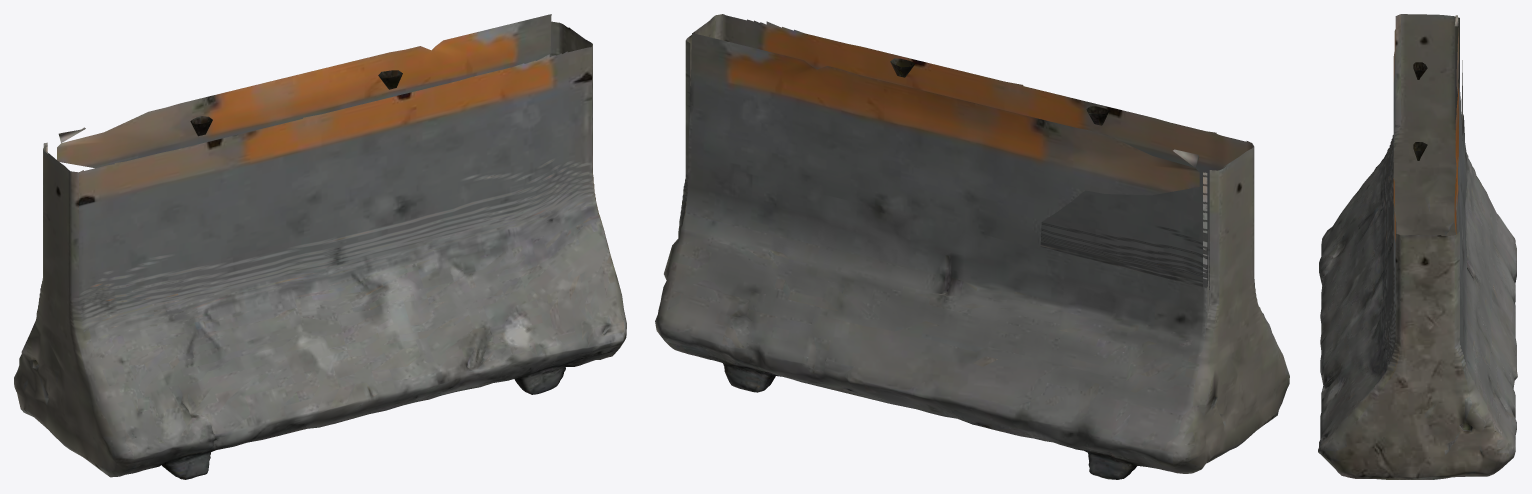
The model's file is barrier_concrete.glb.
3 views of the same model, side by side, from view 1: azimuth 30°, elevation 25°; view 2: azimuth 150°, elevation 25°; view 3: azimuth 270°, elevation 25° (orthographic). The views are drawn at different scales.
Parts seen in each view (by area): view 1: tripo_node_861f3e97-8852-4d09-a6f1-5a4ce27d8f27; view 2: tripo_node_861f3e97-8852-4d09-a6f1-5a4ce27d8f27; view 3: tripo_node_861f3e97-8852-4d09-a6f1-5a4ce27d8f27.
Boxes of the visible parts, bbox=[...] form: tripo_node_861f3e97-8852-4d09-a6f1-5a4ce27d8f27: bbox=[14, 14, 626, 479]; tripo_node_861f3e97-8852-4d09-a6f1-5a4ce27d8f27: bbox=[655, 14, 1289, 479]; tripo_node_861f3e97-8852-4d09-a6f1-5a4ce27d8f27: bbox=[1318, 14, 1517, 479].
Size of the model in its own units: 0.9961 by 0.5558 by 0.3777.
1 material, 1 textured.
